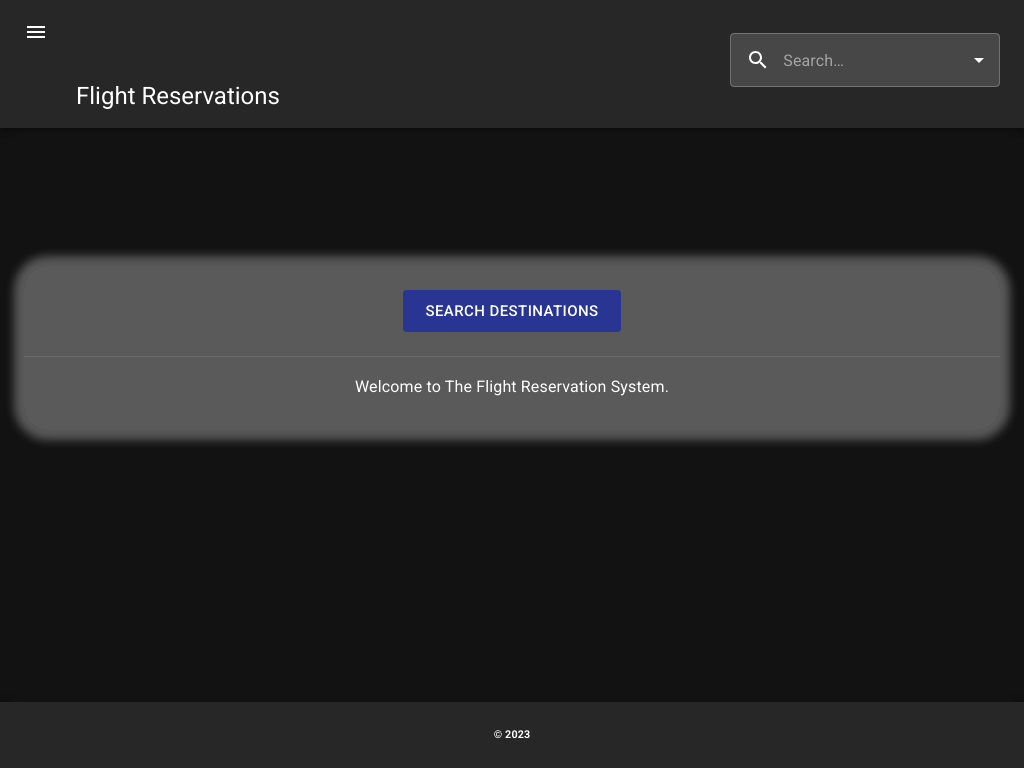
Frontend e2e tests › About page have info about developers and App.
Step 1. Click the icon with test id "ArrowDropDownIcon" → point(979, 60), box [967,48,991,72]
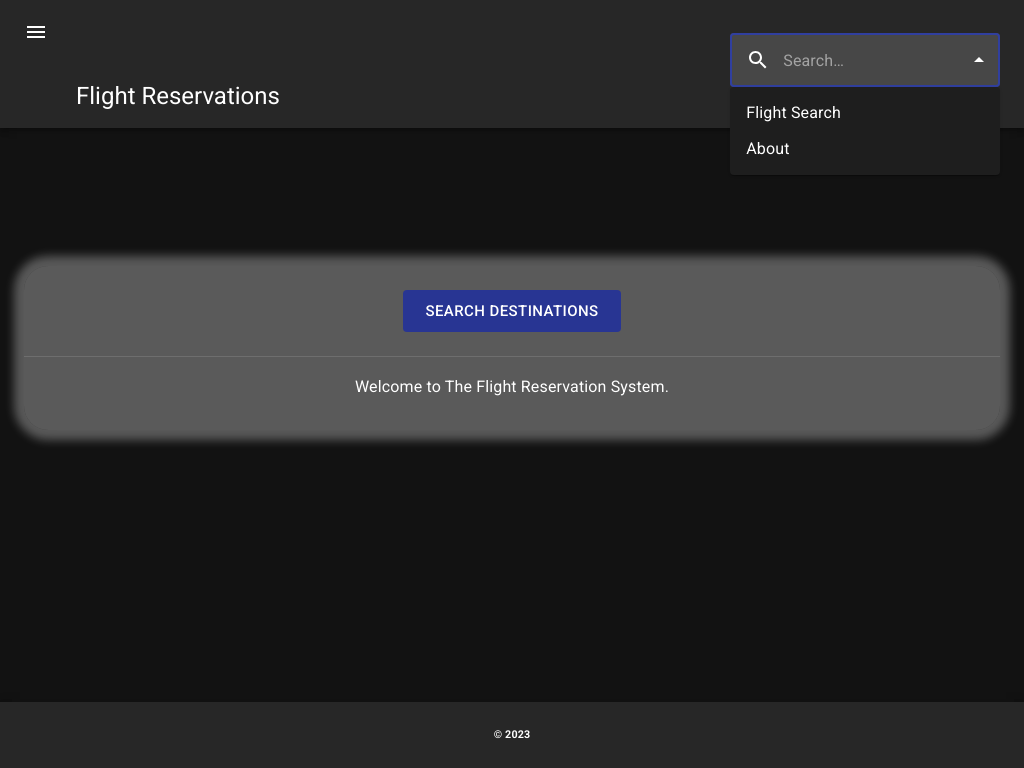
Check: the option "About" is shown
Step 2. Click the option "About" → point(768, 149), box [746,139,789,158]
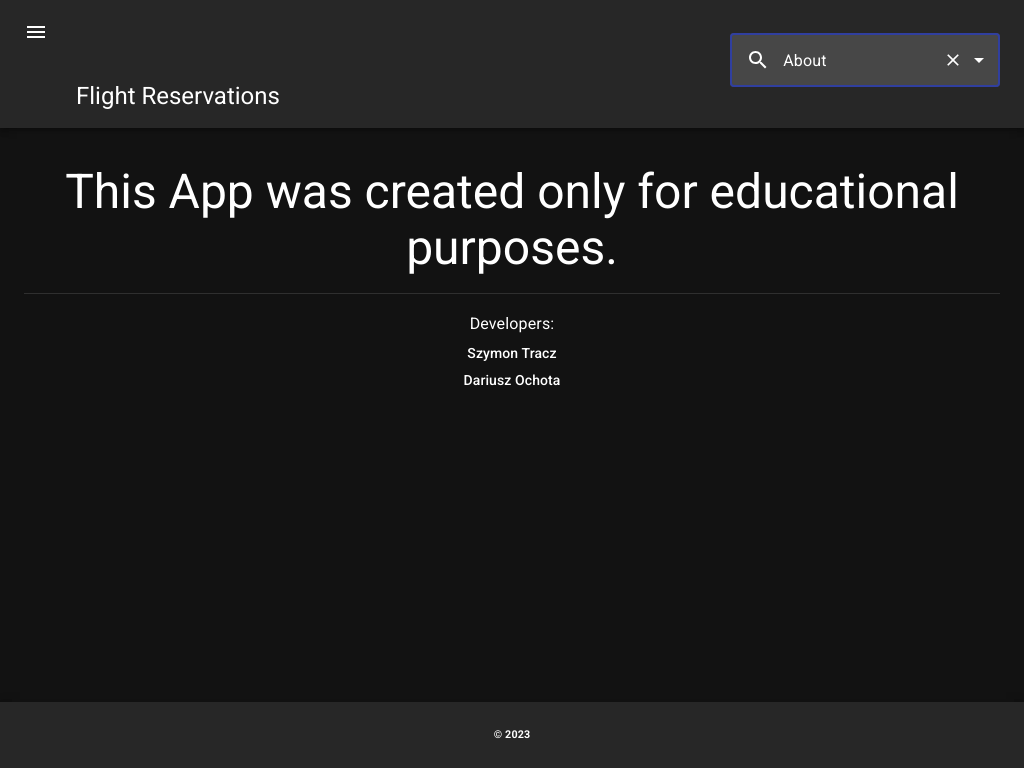
Check: the heading "This App was created only for educational purposes." is shown, box [24,148,1000,276]
Check: the link "Szymon Tracz" is shown, box [467,345,557,361]
Check: the link "Dariusz Ochota" is shown, box [464,372,560,388]
